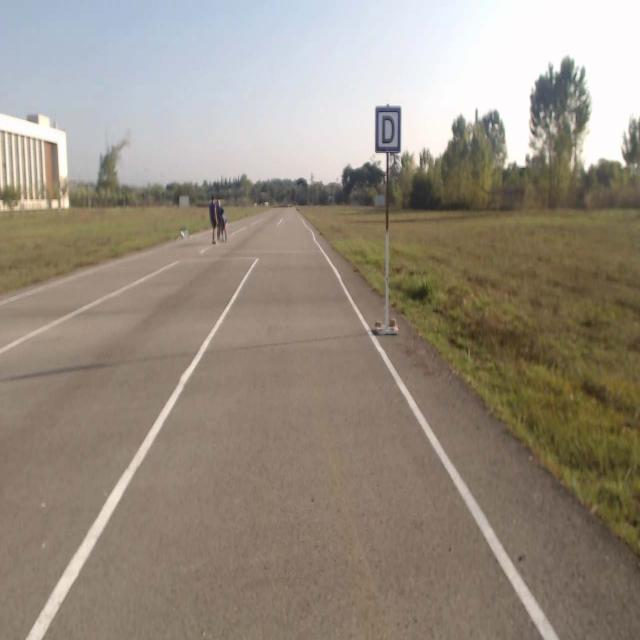durak: (376, 106, 401, 153)
